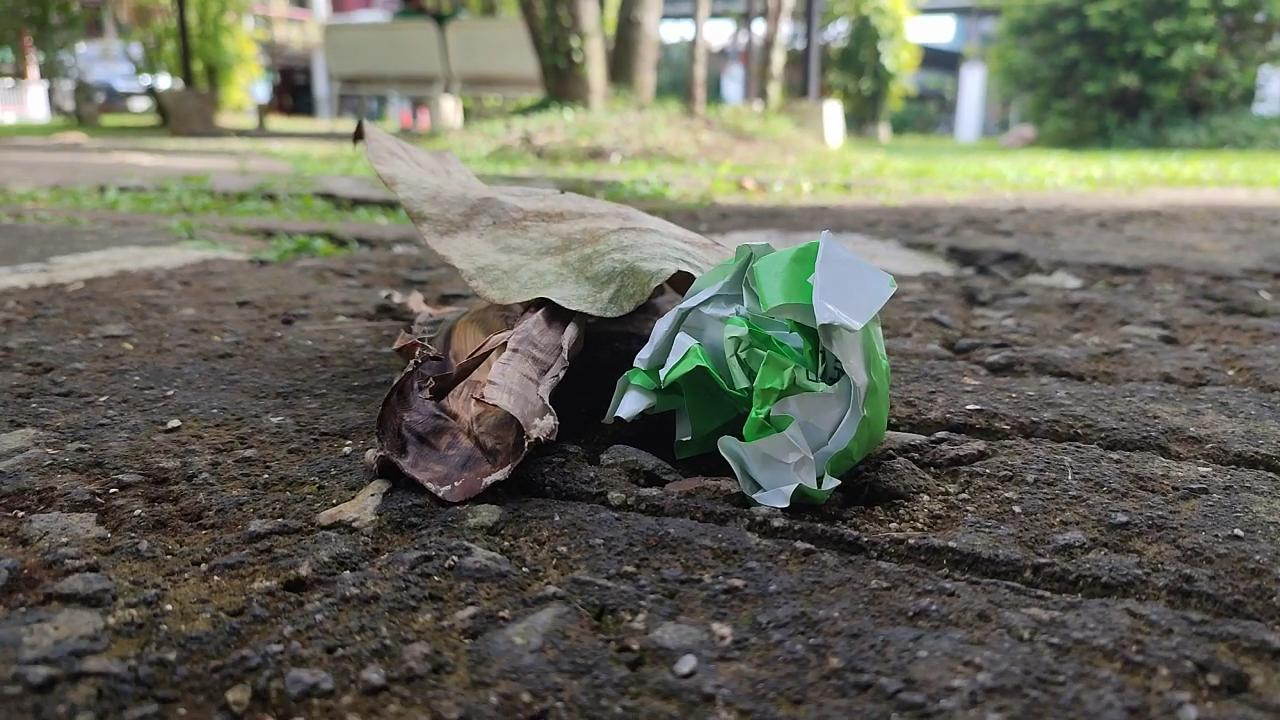Paper: (621, 216, 909, 517)
